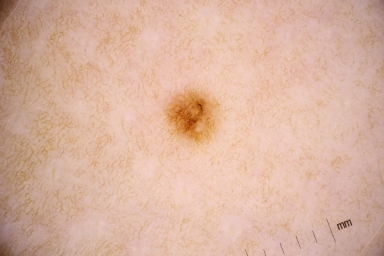nevus: (164, 89, 220, 143)
